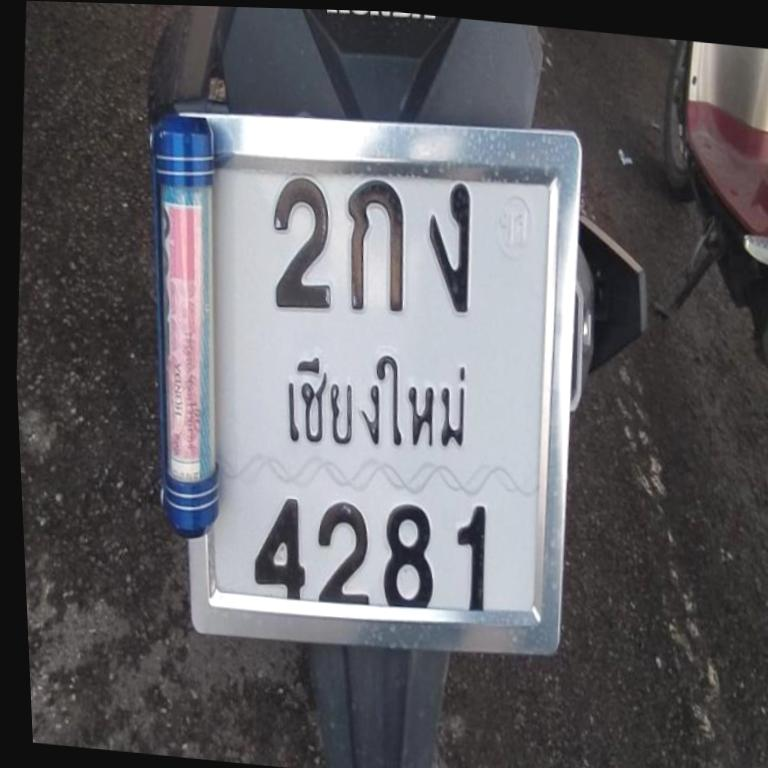license plate: (115, 89, 602, 677)
